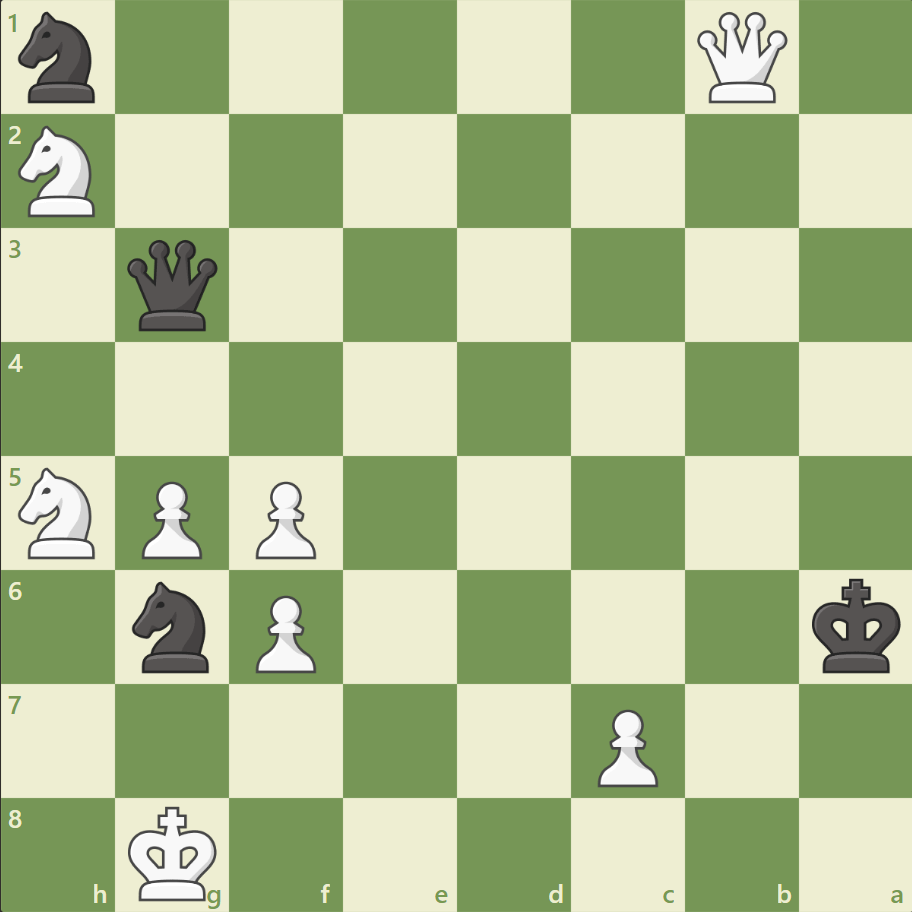K: (124, 798, 224, 906)
N: (11, 461, 108, 564), (11, 121, 108, 223)
P: (247, 586, 322, 677), (247, 473, 322, 564), (133, 473, 208, 564), (588, 700, 662, 791)
Q: (691, 9, 790, 108)
k: (806, 571, 906, 679)
n: (124, 575, 222, 677), (11, 7, 108, 110)
q: (124, 236, 223, 335)
